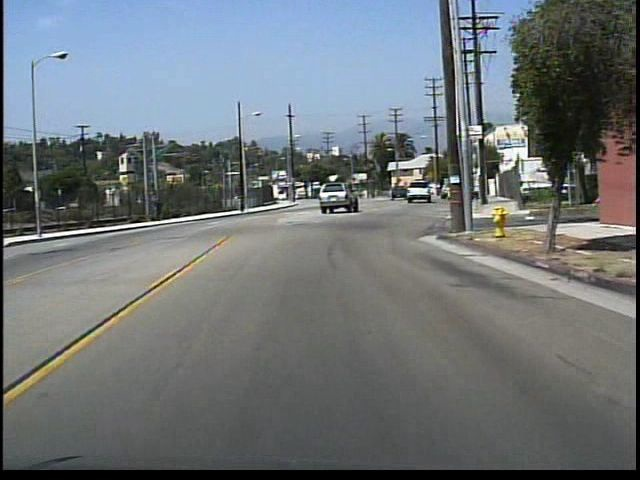person: (155, 192, 169, 222)
